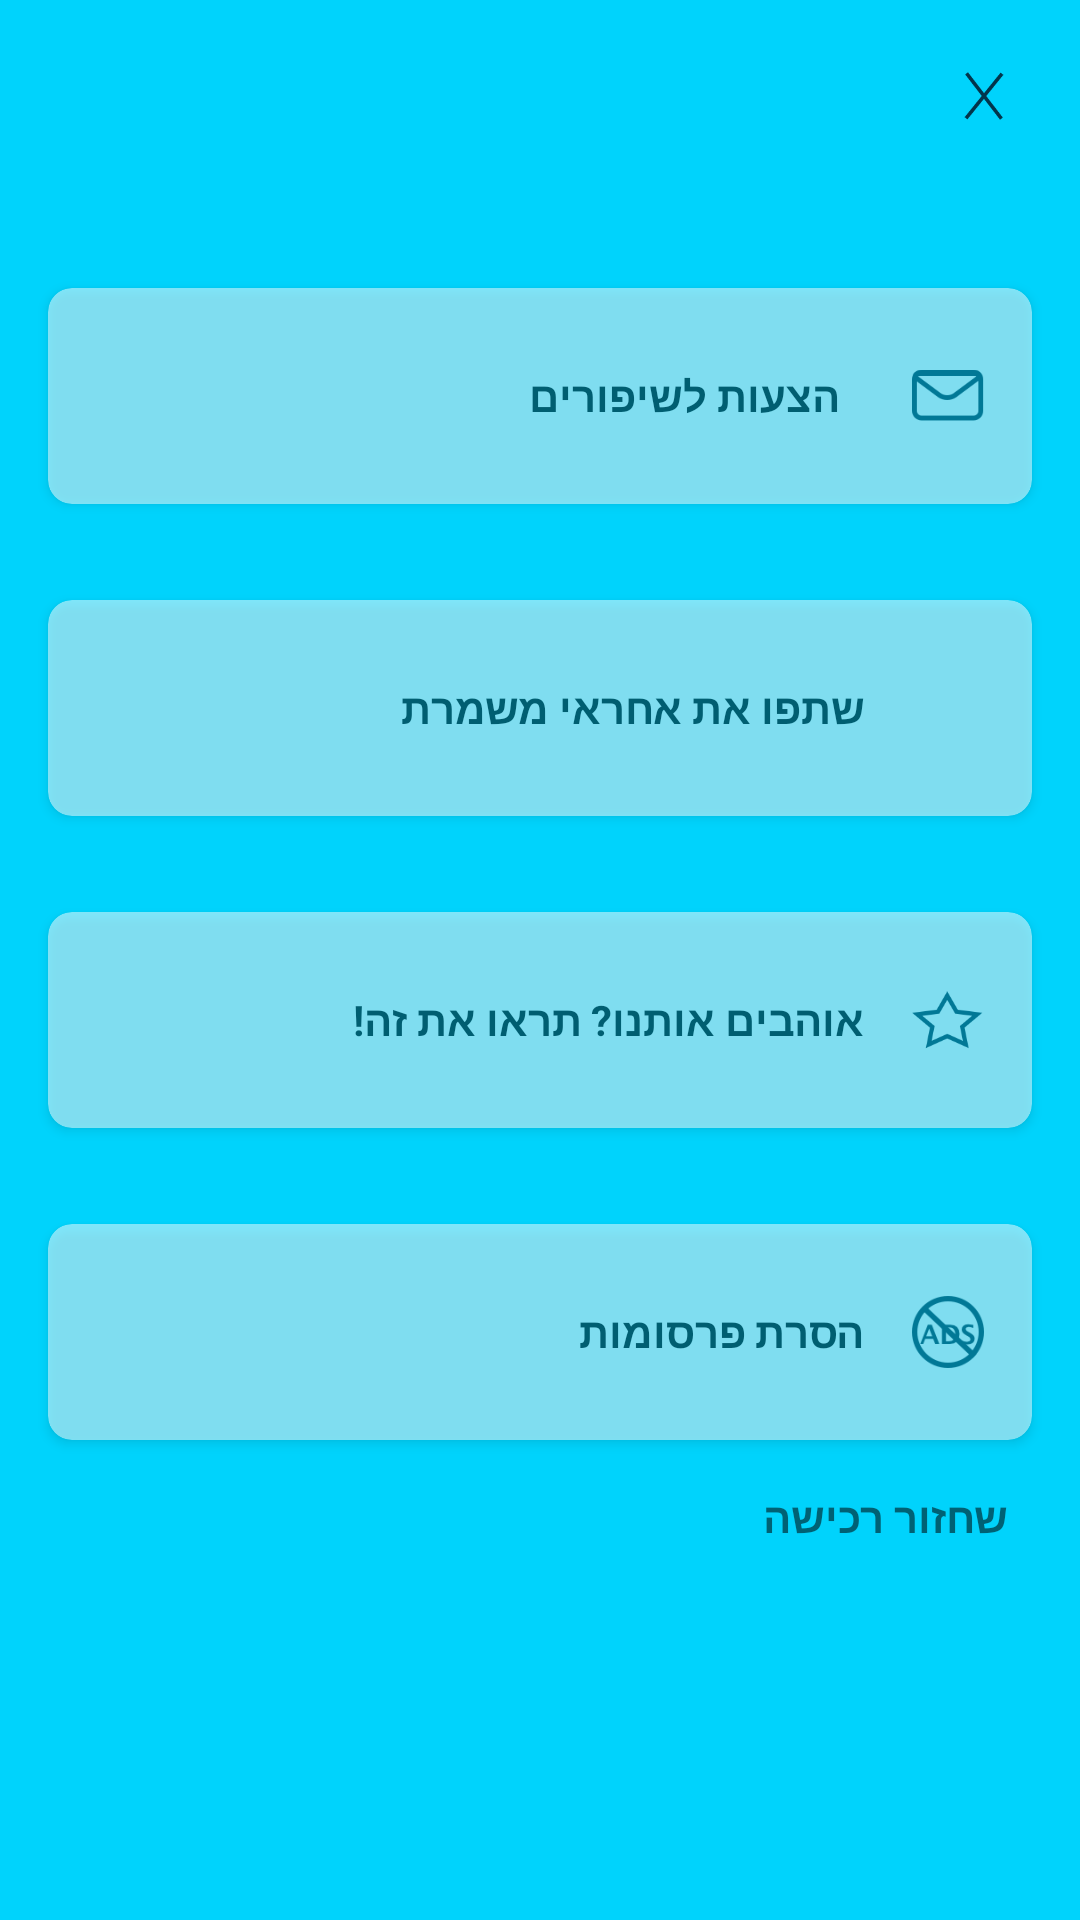

Where to tap for icons on this 1080 x 1920 app screen, as (x=x, y=y):
envelope: (x=947, y=395)
no ads: (x=948, y=1332)
rate us: (x=947, y=1019)
